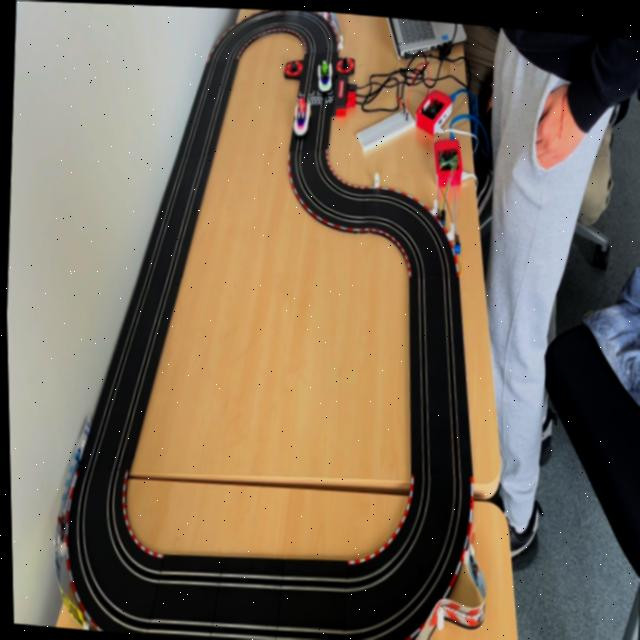mario: (290, 92, 313, 135)
yoshi: (317, 56, 335, 92)
